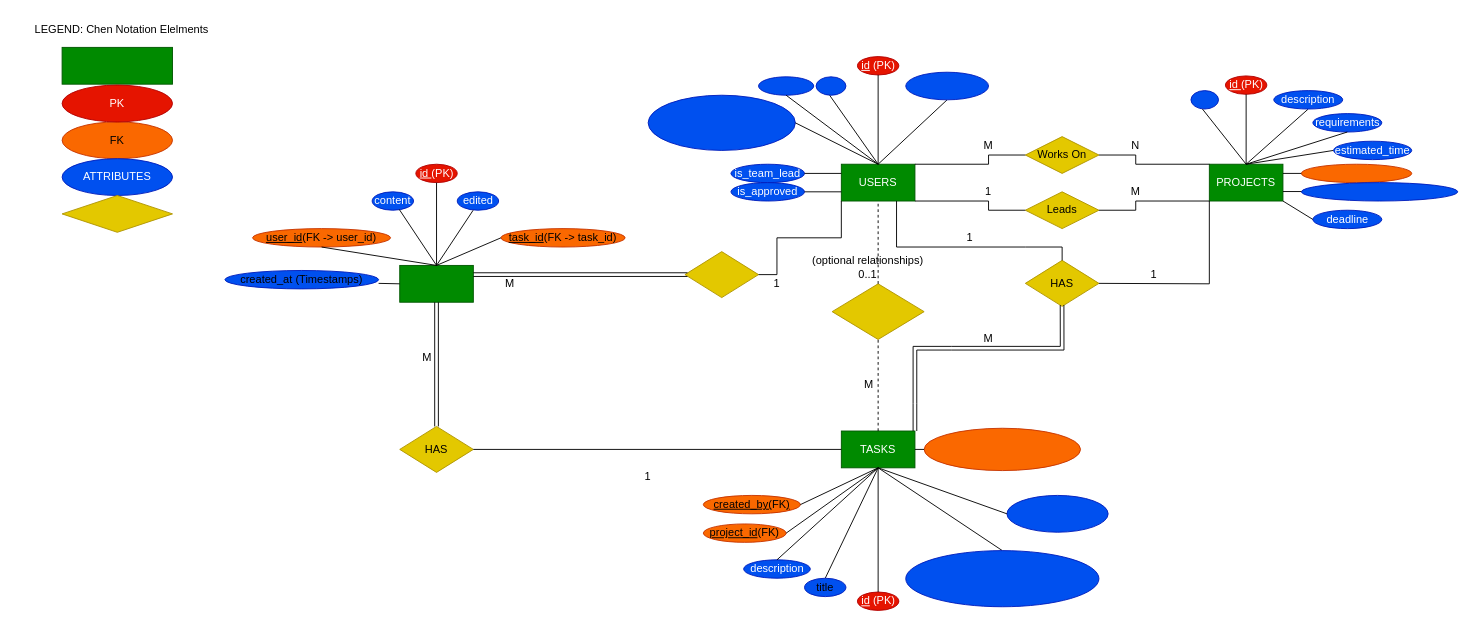
Some shapes in this 1474 by 627 pixel diagram are drawn without their labels. The centre of each missing label's shape, as x and y in pixels:
ASSIGNED: (877,311)
assigned_to (FK -> users_id)[optional]: (1002,449)
COMMENTS: (436,283)
created_at (Timestamp ): (1057,513)
e-mail[UNIQUE]: (947,85)
ENTITIES: (116,65)
level ENUM (Admin,Senior,Mid,Junior): (721,122)
name: (830,85)
password: (786,85)
RELATIONSHIP: (116,213)
status ENUM ("To Do, In Progress, QA, Done"): (1002,578)
status ENUM(Active,Done): (1379,191)
team_lead_id (FK): (1356,173)
title: (1204,99)
WRITES: (721,274)
